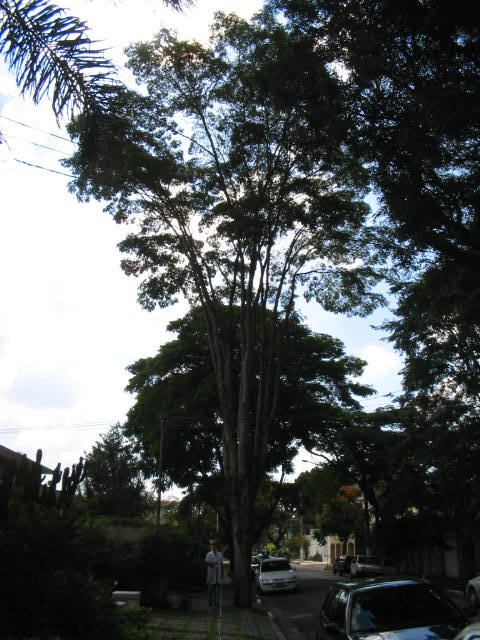crown: (60, 126, 392, 329)
stem: (224, 514, 262, 607)
stick: (209, 492, 223, 605)
tree: (58, 124, 391, 610)
